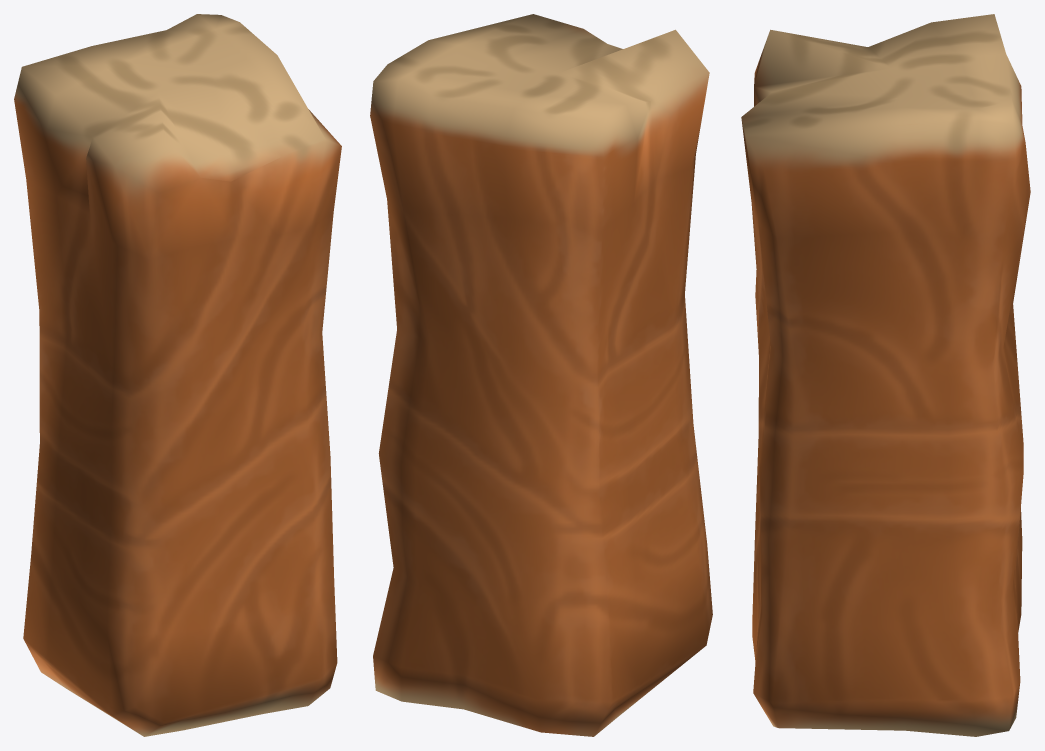
File: fance3.fbx
3 views of the same model, side by side, from view 1: azimuth 30°, elevation 25°; view 2: azimuth 150°, elevation 25°; view 3: azimuth 270°, elevation 25° (orthographic). The views are drawn at different scales.
Visible parts, largest first — view 1: Retopo_Cube.008; view 2: Retopo_Cube.008; view 3: Retopo_Cube.008.
Boxes of the visible parts, x1,y1,x2,y2 form: Retopo_Cube.008: [14, 14, 341, 736]; Retopo_Cube.008: [370, 14, 712, 736]; Retopo_Cube.008: [741, 14, 1030, 736].
Size of the model in its own units: 97.56 by 250 by 105.
